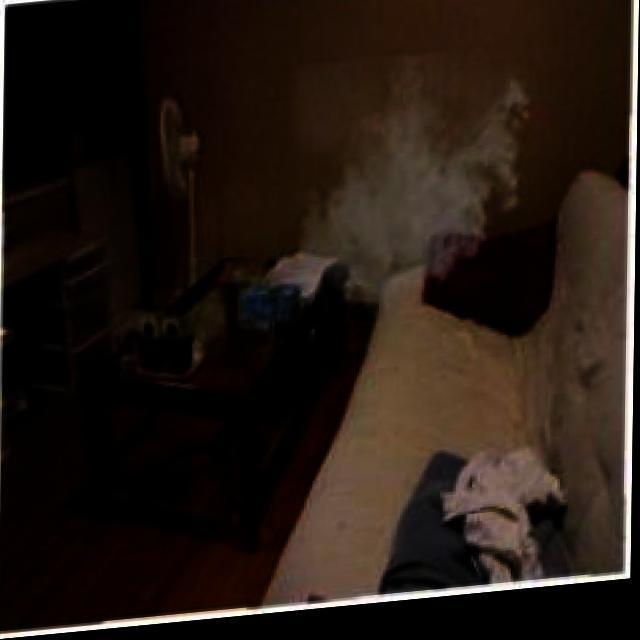Smoke: (279, 48, 539, 346)
